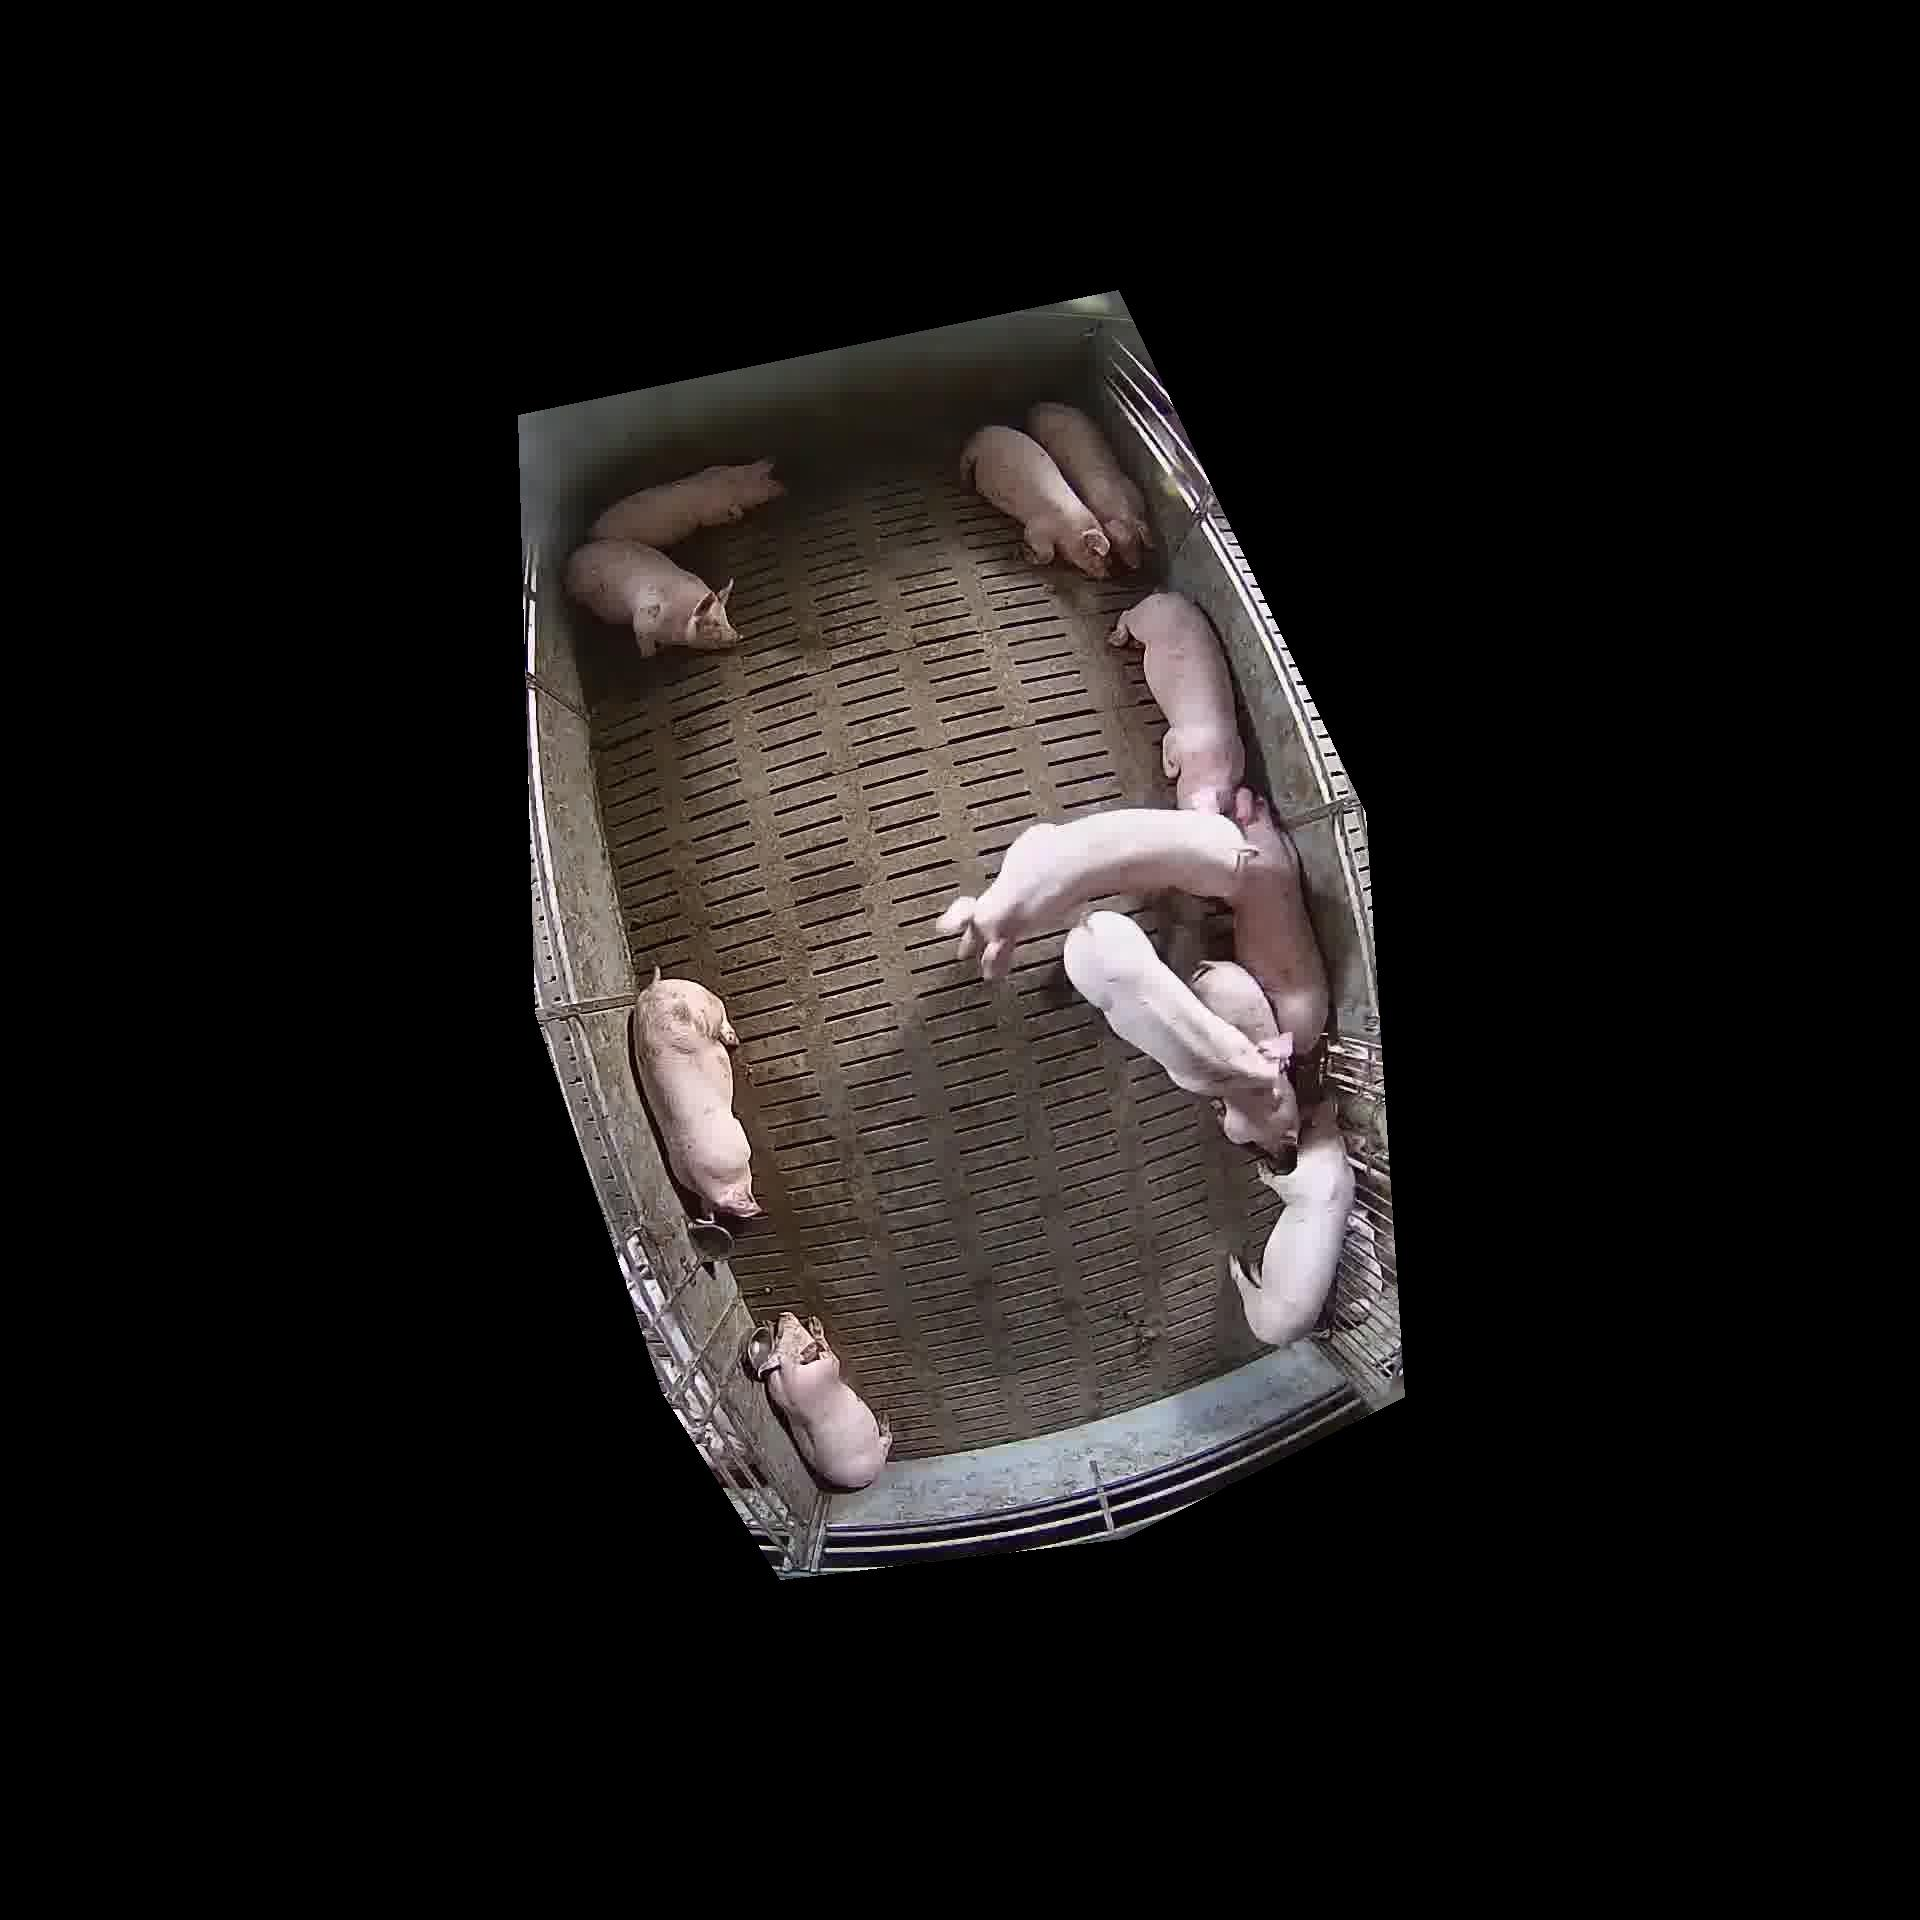pig: (937, 809, 1248, 979), (1067, 914, 1292, 1111), (635, 978, 760, 1217), (1109, 593, 1245, 812), (1231, 1102, 1354, 1343), (1231, 788, 1331, 1055), (758, 1312, 891, 1487), (962, 425, 1108, 577), (1027, 403, 1150, 566), (564, 540, 737, 656), (591, 459, 782, 549), (1189, 958, 1278, 1043)
